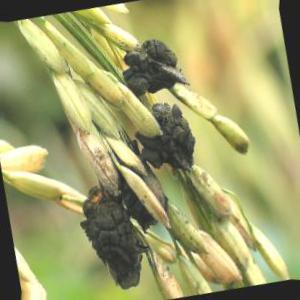False Smut: (87, 191, 142, 287), (128, 39, 175, 100), (154, 107, 196, 171)
